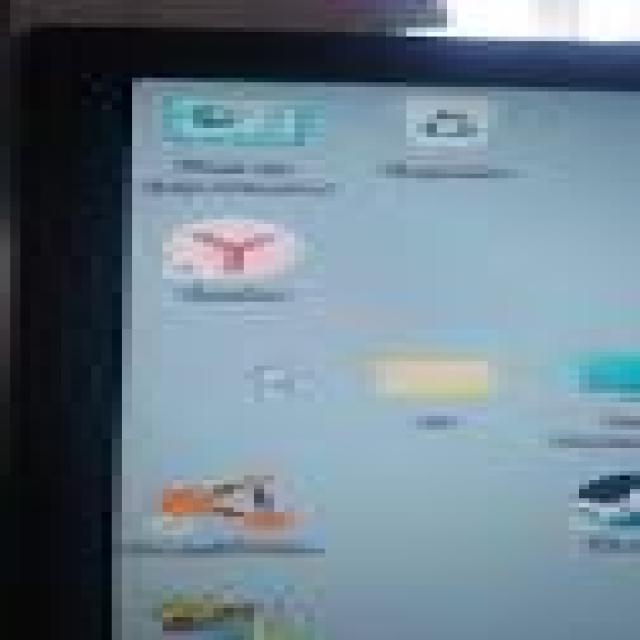dead_pixel: (245, 358, 321, 408)
